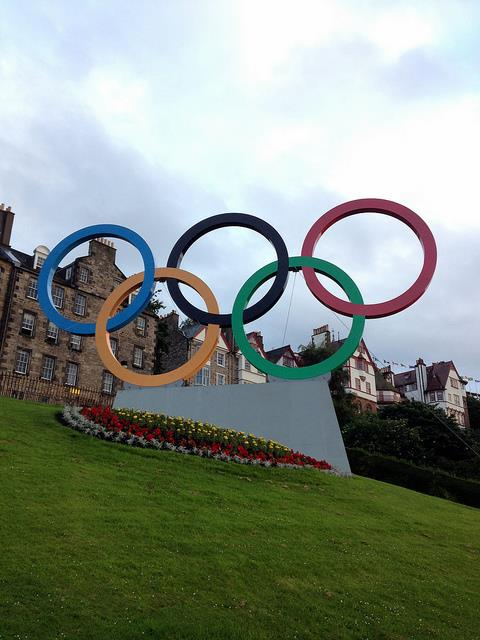Olympic_rings: (39, 195, 440, 389)
